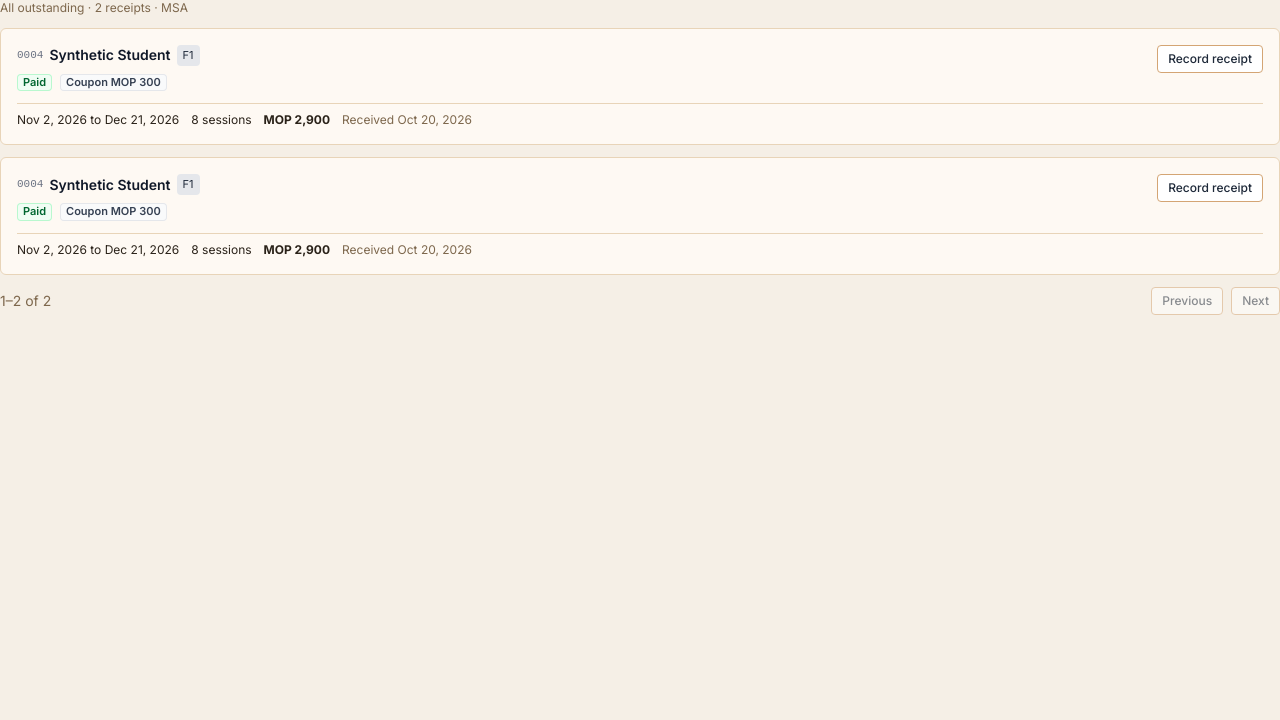
Test: focused receipt entry in the outstanding queue › focuses the reference and retains success until explicit Next opens a clean second payment for the same student
Click the 1st button "Record receipt" at (1210, 59), box x1=1157 y1=45 x2=1263 y2=73
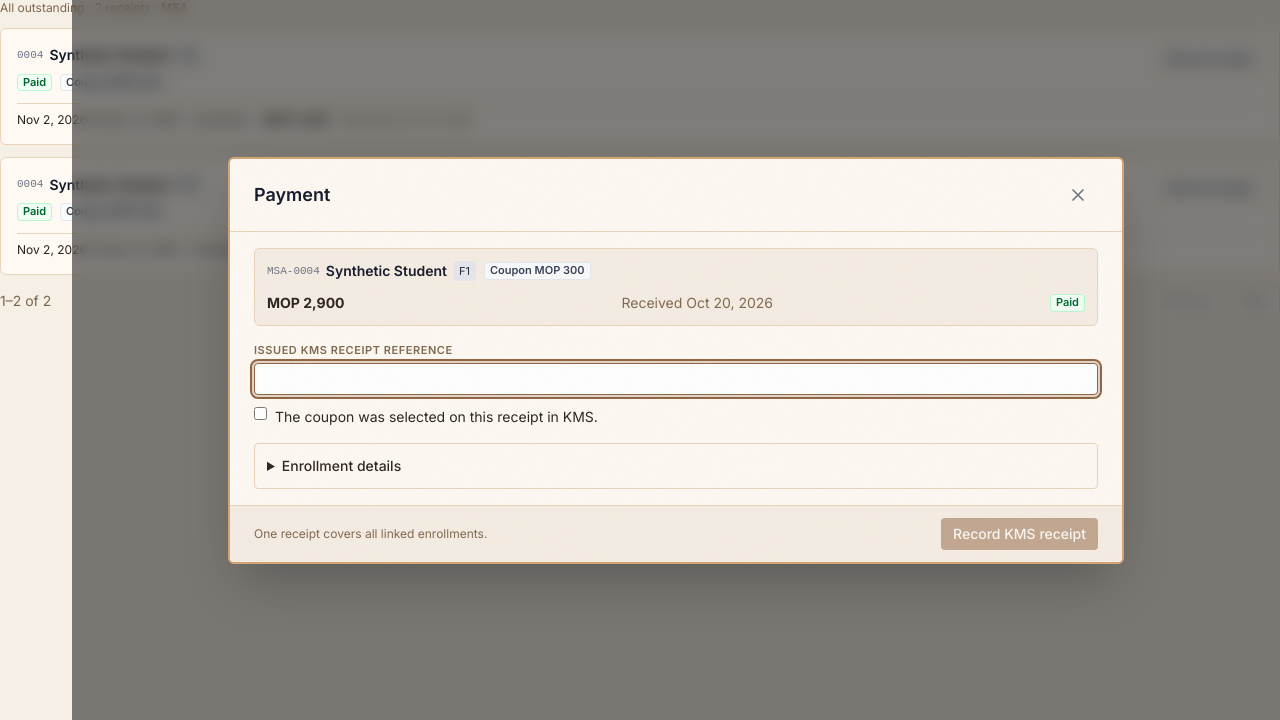
Now the field labelled "Issued KMS receipt reference" is shown
Now the element named "Receipt payment" shows "Synthetic Student", box x1=326 y1=261 x2=447 y2=281
Now the element named "Receipt payment" shows "MOP 2,900", box x1=267 y1=294 x2=344 y2=311
Type "KMS-ONE" into the field labelled "Issued KMS receipt reference" at (676, 378), box x1=254 y1=362 x2=1098 y2=394
Click the checkbox labelled "The coupon was selected on this receipt in KMS." at (260, 413), box x1=254 y1=406 x2=267 y2=420
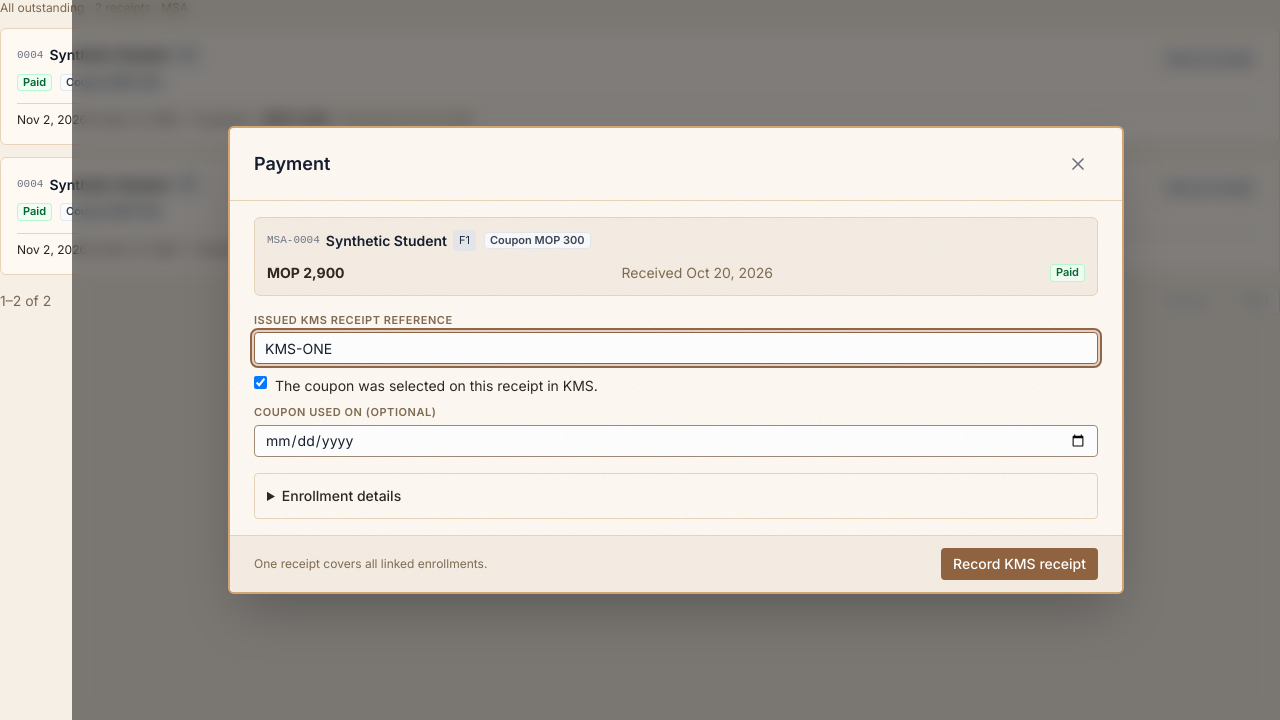
Type "2026-10-21" into the date field labelled "Coupon used on (optional)" at (676, 441), box x1=254 y1=425 x2=1098 y2=457
Click the button "Record KMS receipt" at (1020, 564), box x1=941 y1=548 x2=1098 y2=580
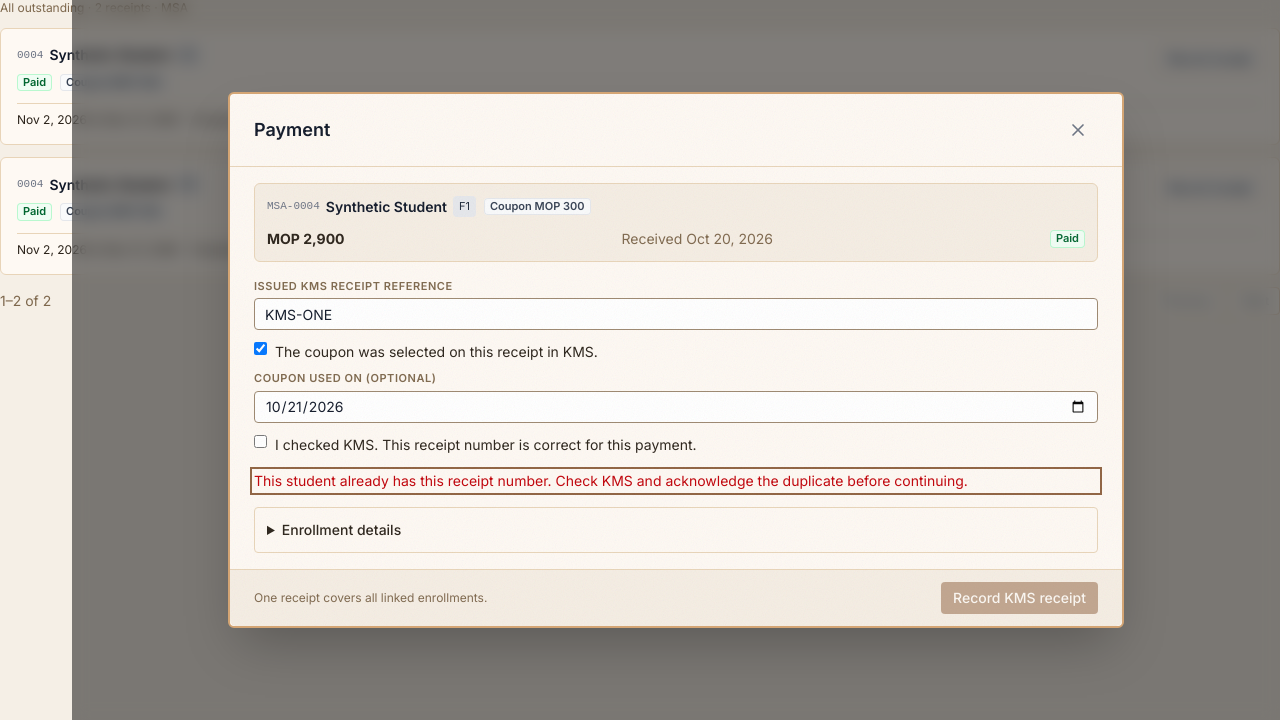
Now the button "Record KMS receipt" is disabled, box x1=941 y1=582 x2=1098 y2=614
Click the checkbox labelled "I checked KMS. This receipt number is correct for this payment." at (260, 441), box x1=254 y1=435 x2=267 y2=448
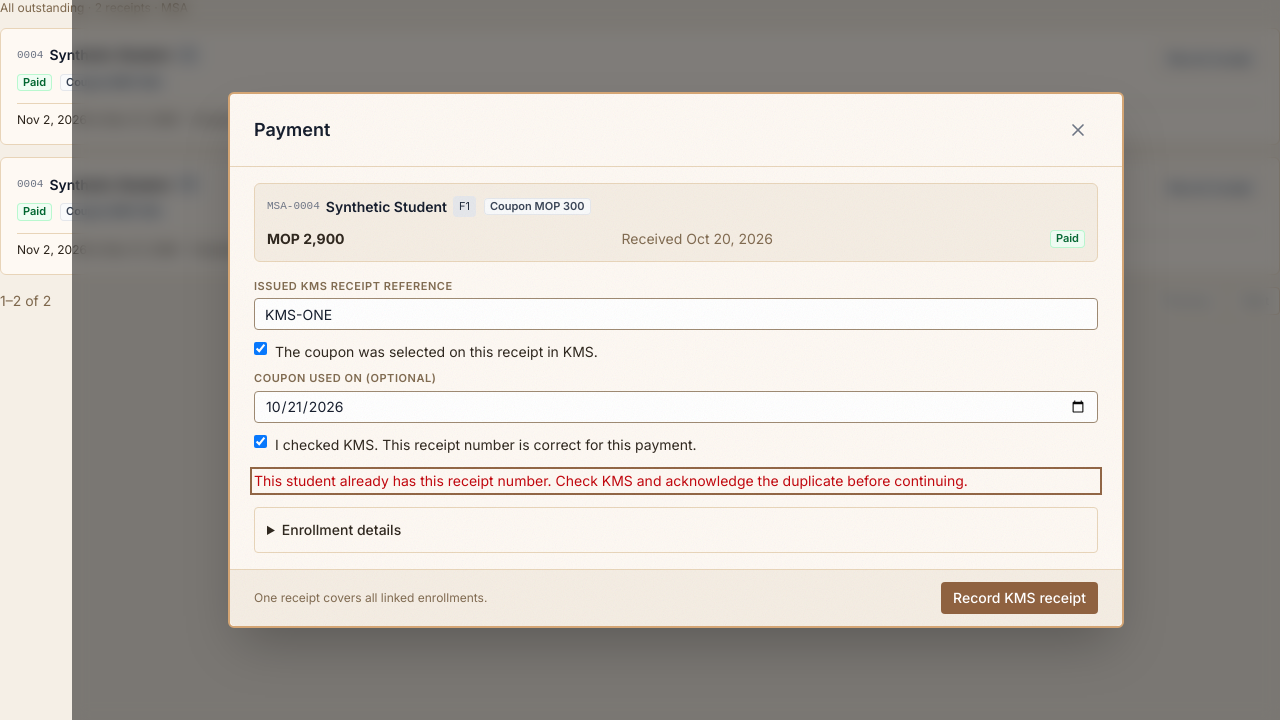
Click the button "Record KMS receipt" at (1020, 598), box x1=941 y1=582 x2=1098 y2=614
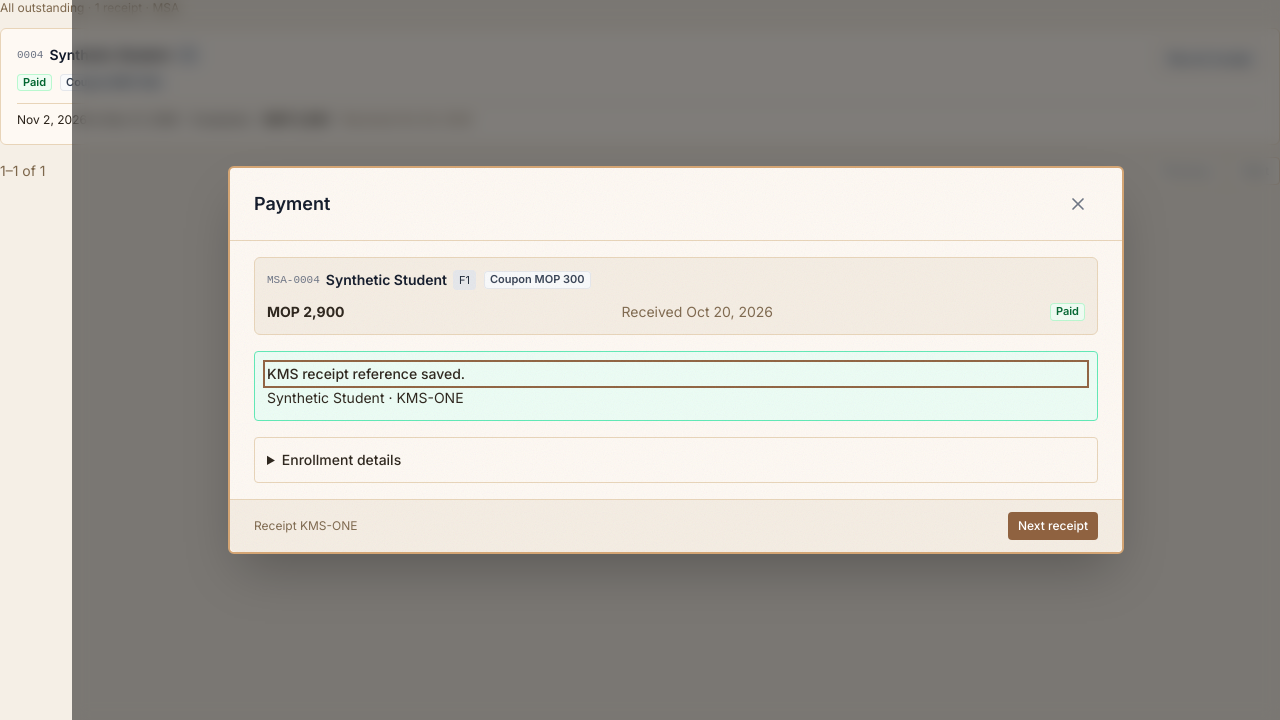
Now the button "Next receipt" is enabled
Now the text "KMS receipt reference saved." is shown, box x1=267 y1=365 x2=465 y2=382
Now the text "Synthetic Student · KMS-ONE" is shown, box x1=267 y1=389 x2=464 y2=406
Click the button "Next receipt" at (1053, 526), box x1=1008 y1=512 x2=1098 y2=540
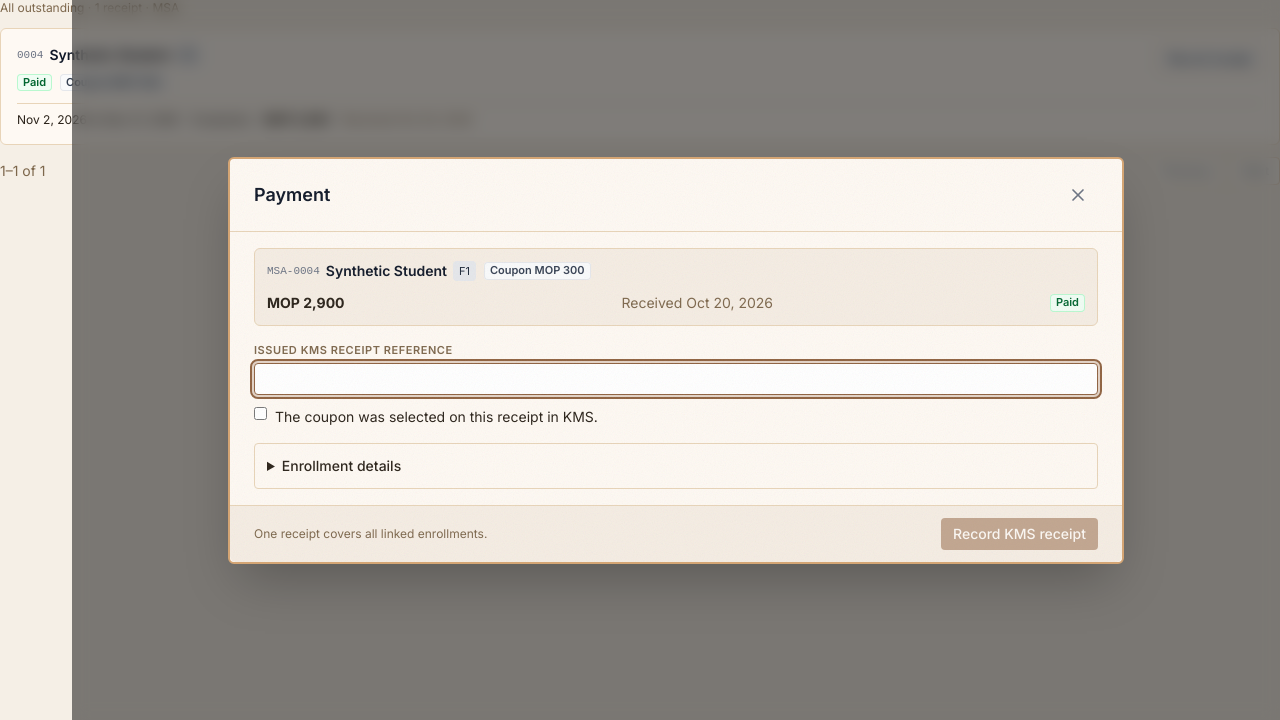
Now the field labelled "Issued KMS receipt reference" is empty, box x1=254 y1=362 x2=1098 y2=394
Now the checkbox labelled "The coupon was selected on this receipt in KMS." is not checked, box x1=254 y1=406 x2=267 y2=420
Now the text "Synthetic Student · KMS-ONE" is gone
